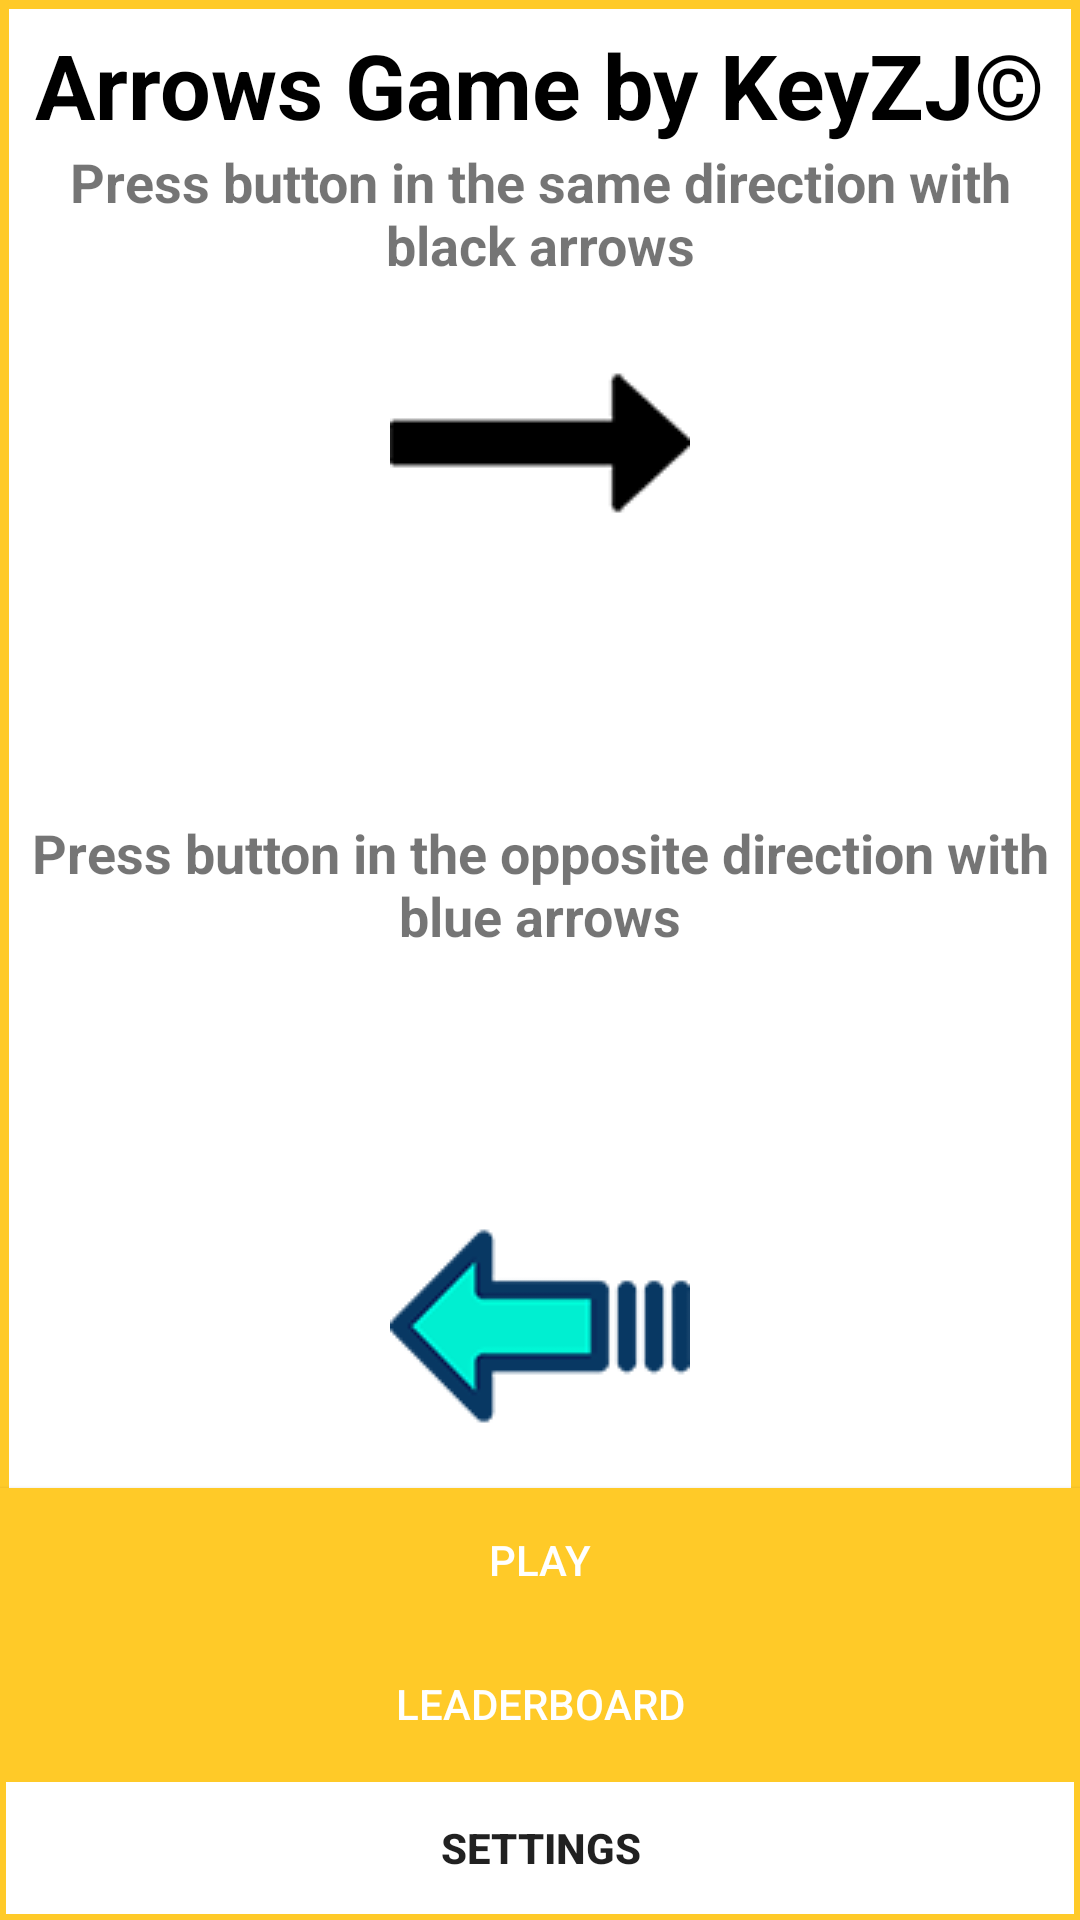

Icons on this 1080 x 1920 Android screen, each with its box as (x1, y1, x2, y2):
arrow invs left: (390, 1229, 690, 1423)
arrow right: (390, 373, 690, 513)
